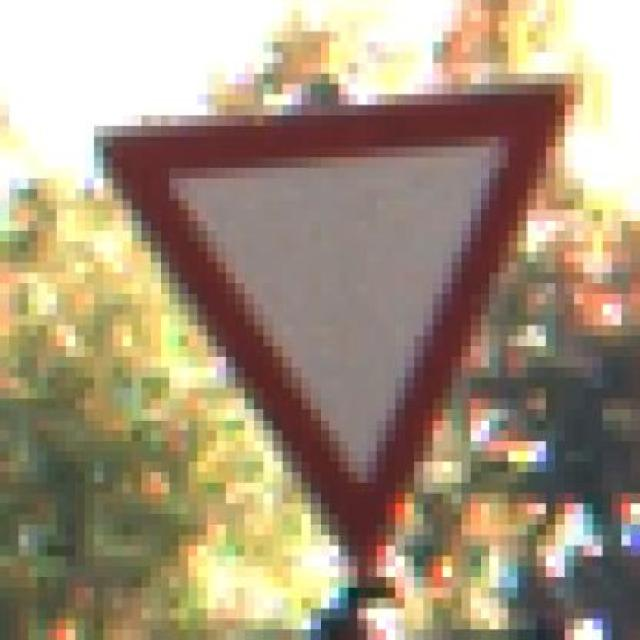Give Way: (56, 62, 584, 567)
